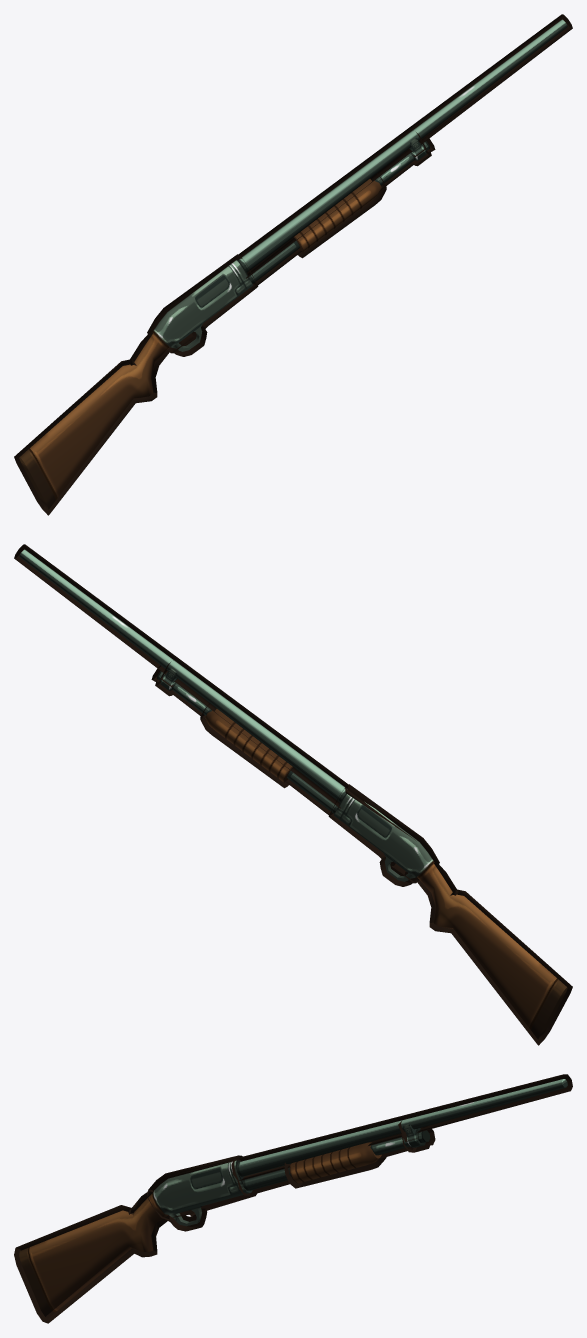
File: EnemyWinchester.FBX
The picture shows the model from 3 angles, top to bottom: view 1: azimuth 30°, elevation 25°; view 2: azimuth 150°, elevation 25°; view 3: azimuth 330°, elevation 25°; orthographic projection.
Visible parts, largest first — view 1: EnemyWinchester1912; view 2: EnemyWinchester1912; view 3: EnemyWinchester1912.
Boxes of the visible parts, <box> form: EnemyWinchester1912: <box>14,14,572,515</box>; EnemyWinchester1912: <box>14,544,572,1045</box>; EnemyWinchester1912: <box>14,1074,572,1323</box>.
Size of the model in its own units: 226 by 10.32 by 146.
